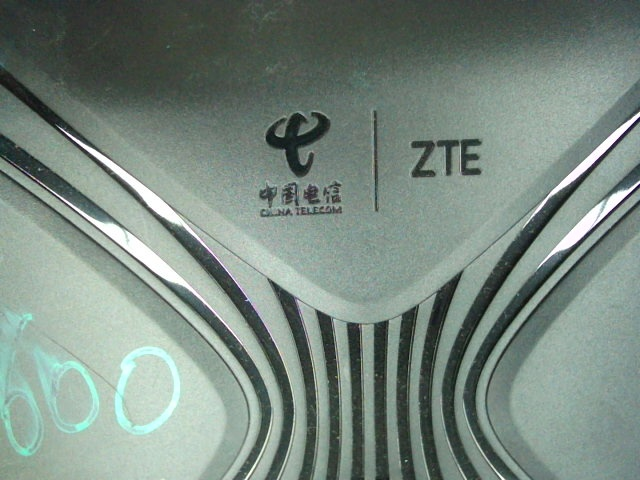AX_ZTEChinaTelecom: (232, 108, 485, 222)
